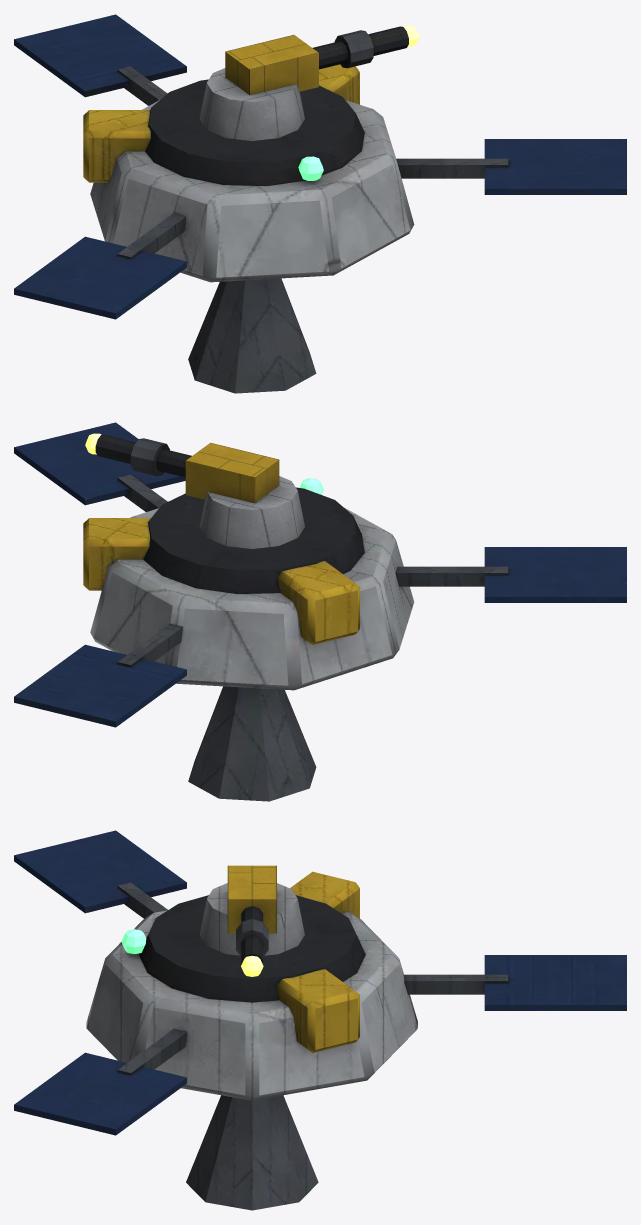
The model's file is miner.glb.
The picture shows the model from 3 angles, top to bottom: view 1: azimuth 30°, elevation 25°; view 2: azimuth 150°, elevation 25°; view 3: azimuth 270°, elevation 25°; orthographic projection.
Visible parts, largest first — view 1: MinerHull, TurretMesh; view 2: MinerHull, TurretMesh; view 3: MinerHull, TurretMesh.
Boxes of the visible parts, left/top/right/bottom form: MinerHull: left=14, top=14, right=626, bottom=393; TurretMesh: left=199, top=26, right=408, bottom=140; MinerHull: left=14, top=422, right=626, bottom=801; TurretMesh: left=95, top=434, right=304, bottom=548; MinerHull: left=14, top=830, right=626, bottom=1210; TurretMesh: left=199, top=865, right=304, bottom=964.
Bounding box in the file's own units: 3.73 × 1.8 × 3.23.
Materials: 4 (2 with a texture image).
